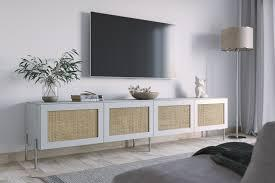TV: (88, 7, 171, 77)
console: (21, 96, 225, 161)
light: (217, 0, 259, 141)
sofa: (108, 123, 275, 183)
